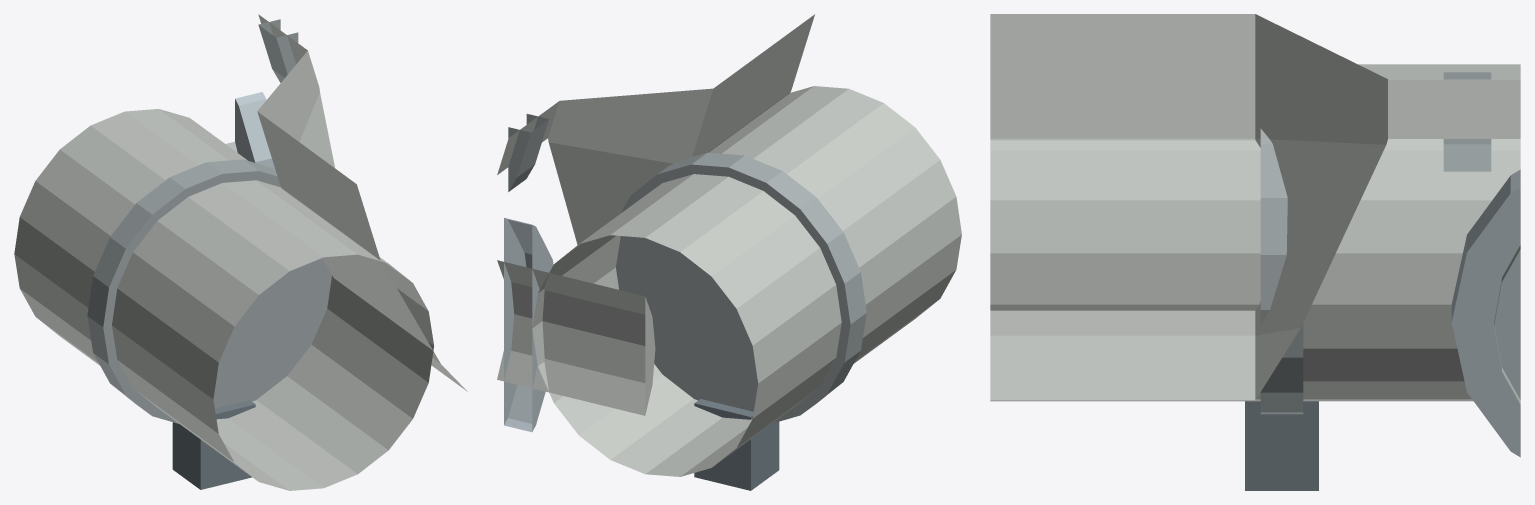
File: cell_60.obj
3 renders of one model, left to right at view 1: azimuth 30°, elevation 25°; view 2: azimuth 150°, elevation 25°; view 3: azimuth 270°, elevation 25°, orthographic. The views are drawn at different scales.
Bounding box in the file's own units: 0.765 × 1 × 1.
